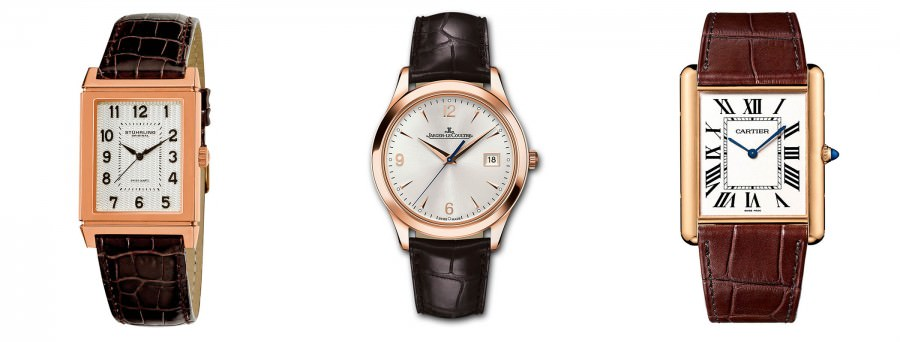clock: (385, 93, 519, 227)
